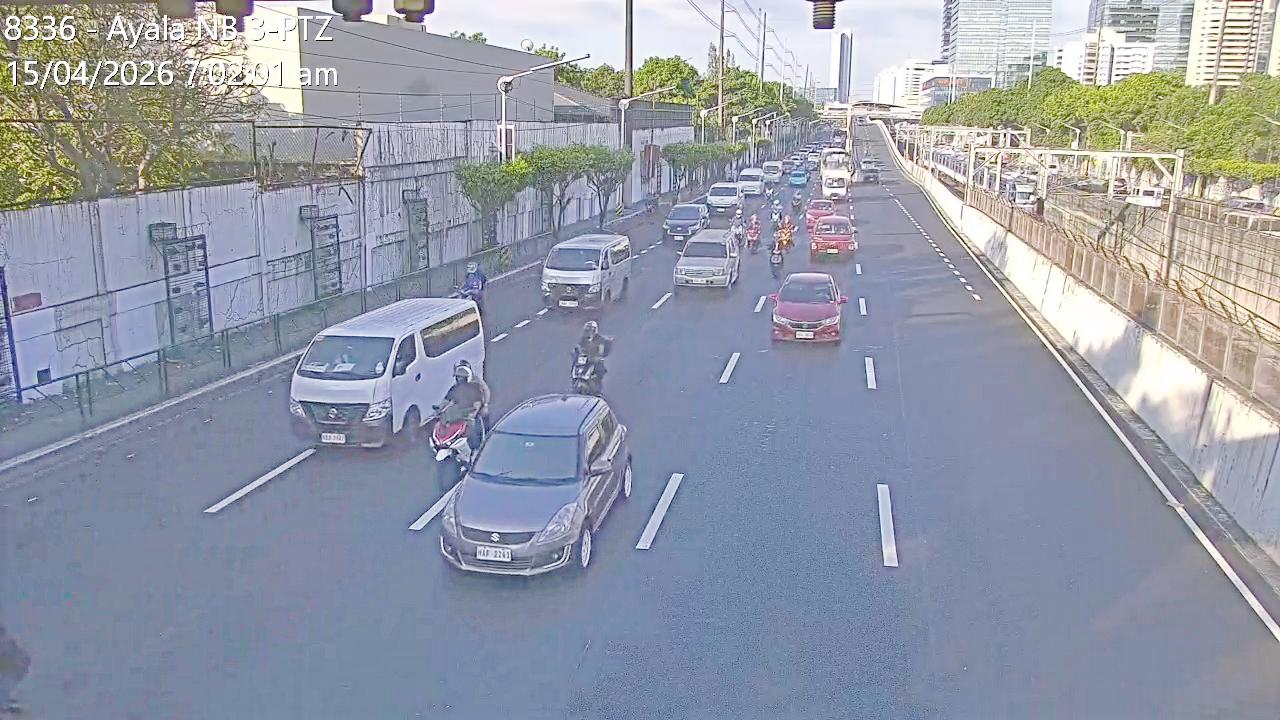Car: (438, 394, 630, 578), (287, 293, 483, 448), (541, 230, 632, 312), (768, 270, 849, 344), (673, 229, 743, 292), (807, 213, 857, 261), (662, 201, 711, 244), (703, 181, 742, 216), (804, 198, 839, 229), (821, 168, 848, 204), (735, 167, 766, 197), (789, 170, 806, 188)
Motor: (425, 390, 485, 480), (570, 345, 608, 395), (768, 231, 784, 272), (748, 212, 762, 255), (779, 211, 794, 250), (729, 210, 745, 244), (770, 198, 781, 228), (790, 188, 802, 215), (764, 176, 774, 202)
Not Accident: (422, 379, 632, 581), (762, 224, 841, 344), (675, 204, 747, 296), (805, 190, 855, 263)
